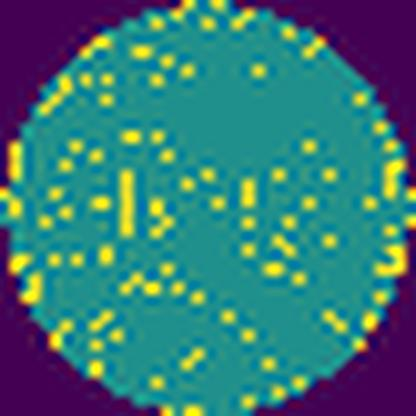Scratch: (114, 165, 142, 240)
